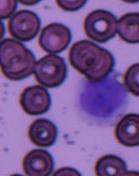L: (74, 74, 131, 126)
